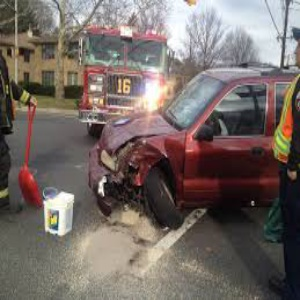bumper: (84, 165, 145, 215)
